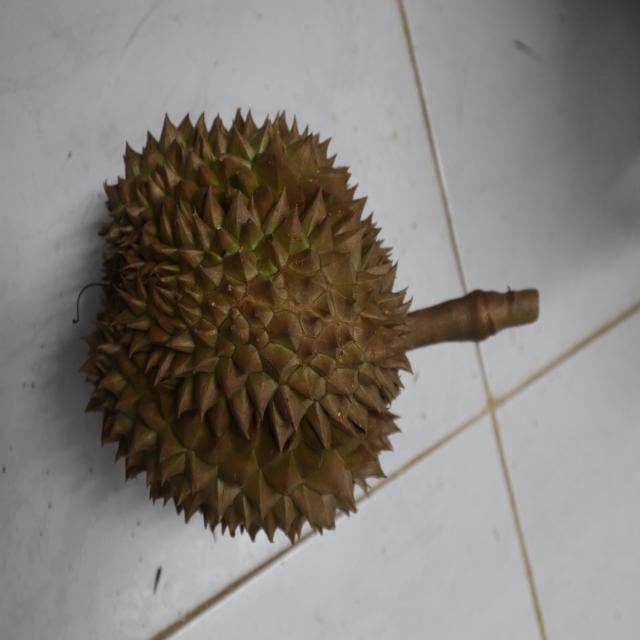mature: (79, 108, 419, 542)
